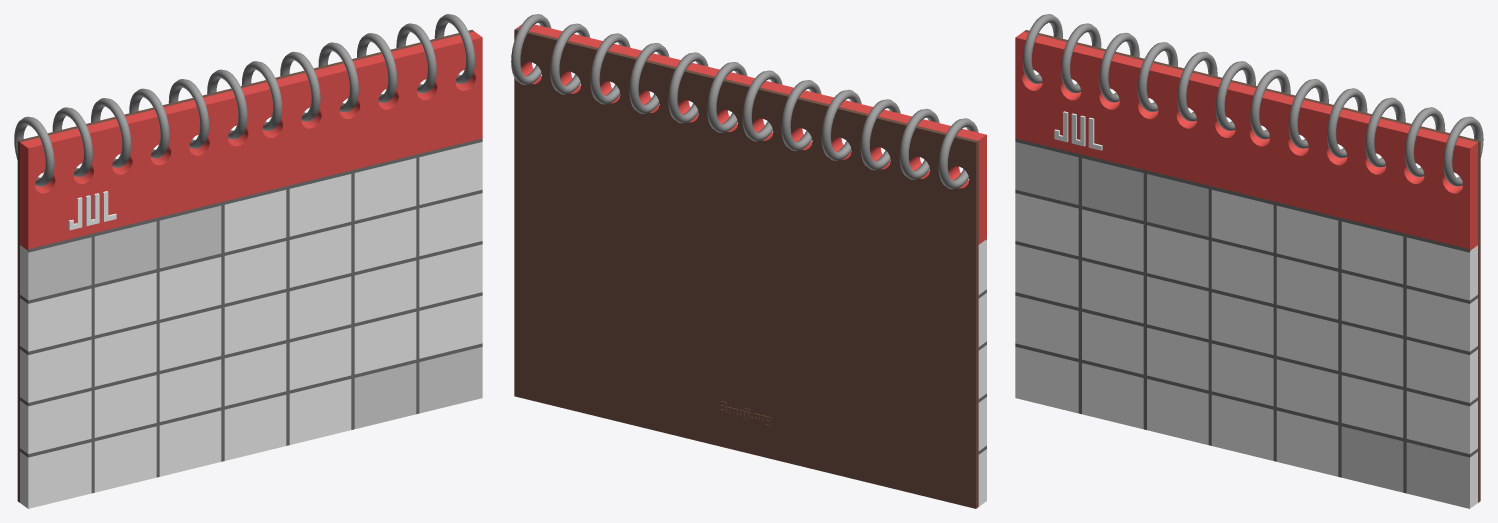
The model's file is spiral_calendar.glb.
3 renders of one model, left to right at view 1: azimuth 30°, elevation 25°; view 2: azimuth 150°, elevation 25°; view 3: azimuth 330°, elevation 25°, orthographic.
Parts seen in each view (by area): view 1: Circle.2568; view 2: Circle.2568; view 3: Circle.2568.
Part boxes in pixels (x1,y1,x2,y2): Circle.2568: [14, 14, 482, 508]; Circle.2568: [511, 14, 986, 508]; Circle.2568: [1015, 14, 1483, 508].
Size of the model in its own units: 2.4 by 1.9 by 0.327.
Materials: 1 (1 with a texture image).
